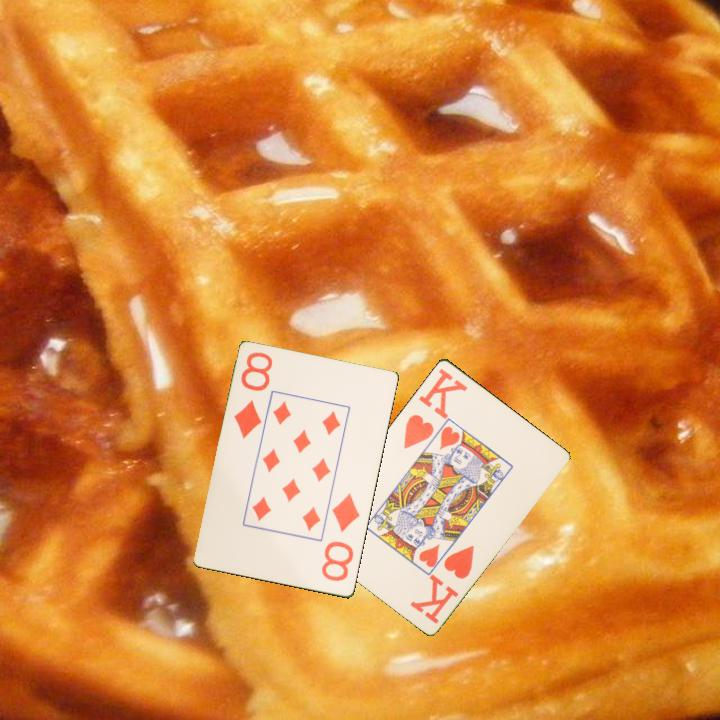8d: (318, 490, 363, 585), (231, 349, 276, 442)
Kh: (400, 364, 470, 451), (407, 541, 477, 626)
